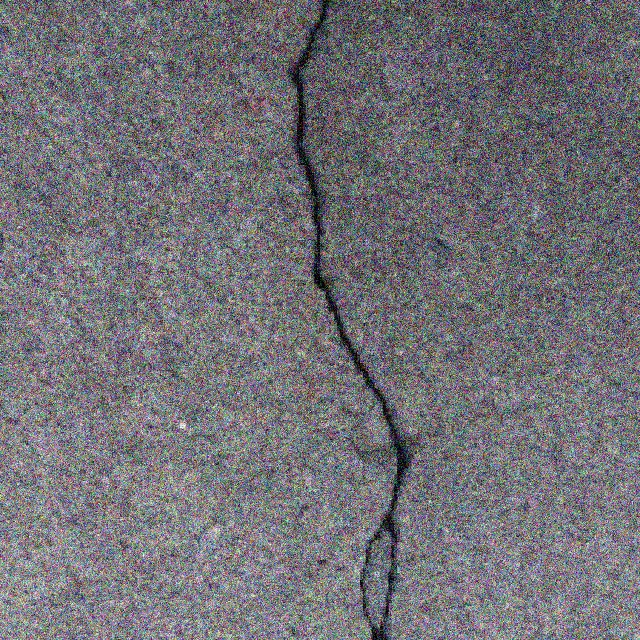SurfaceCrack: (268, 0, 432, 640)
